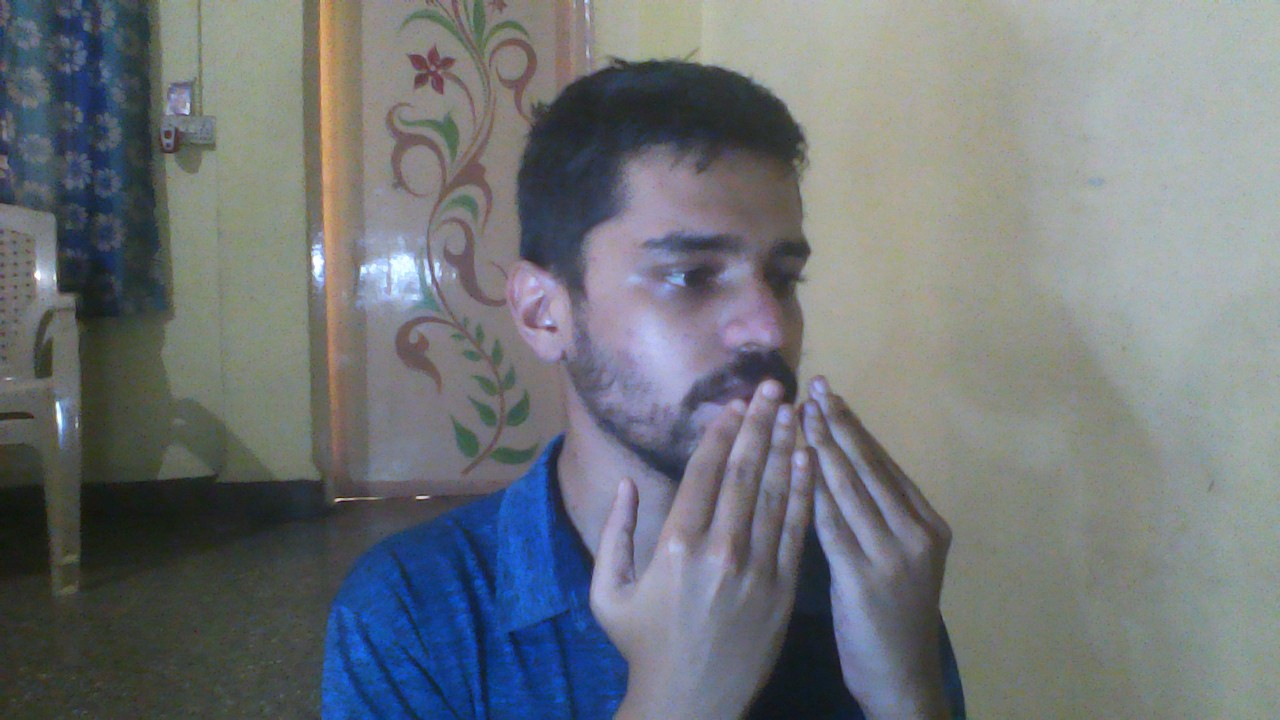thanks: (561, 362, 966, 714)
